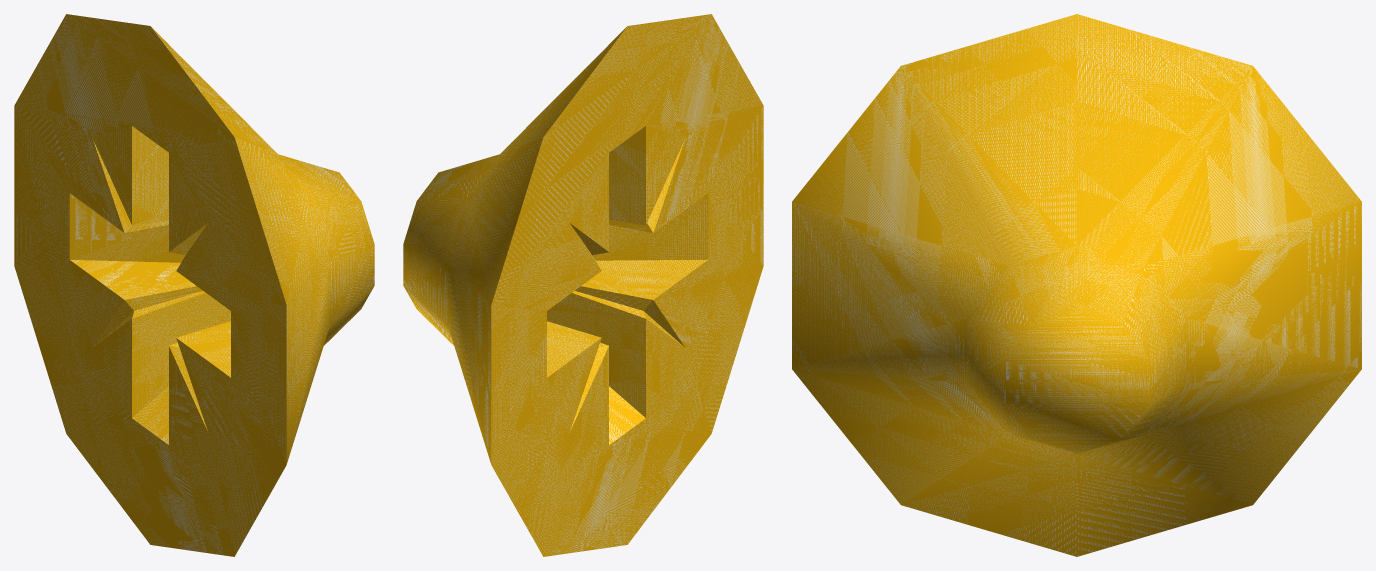
The model's file is original-156.obj.
The picture shows the model from 3 angles, left to right: view 1: azimuth 30°, elevation 25°; view 2: azimuth 150°, elevation 25°; view 3: azimuth 270°, elevation 25°; orthographic projection. The views are drawn at different scales.
Visible parts, largest first — view 1: Group108/mesh181/mesh181-geometry#mesh181-geometry; view 2: Group108/mesh181/mesh181-geometry#mesh181-geometry; view 3: Group108/mesh181/mesh181-geometry#mesh181-geometry.
Boxes of the visible parts, x1,y1,x2,y2 form: Group108/mesh181/mesh181-geometry#mesh181-geometry: (14, 14, 374, 556); Group108/mesh181/mesh181-geometry#mesh181-geometry: (403, 14, 763, 556); Group108/mesh181/mesh181-geometry#mesh181-geometry: (792, 14, 1361, 556).
Size of the model in its own units: 0.00751 by 0.0197 by 0.0187.
